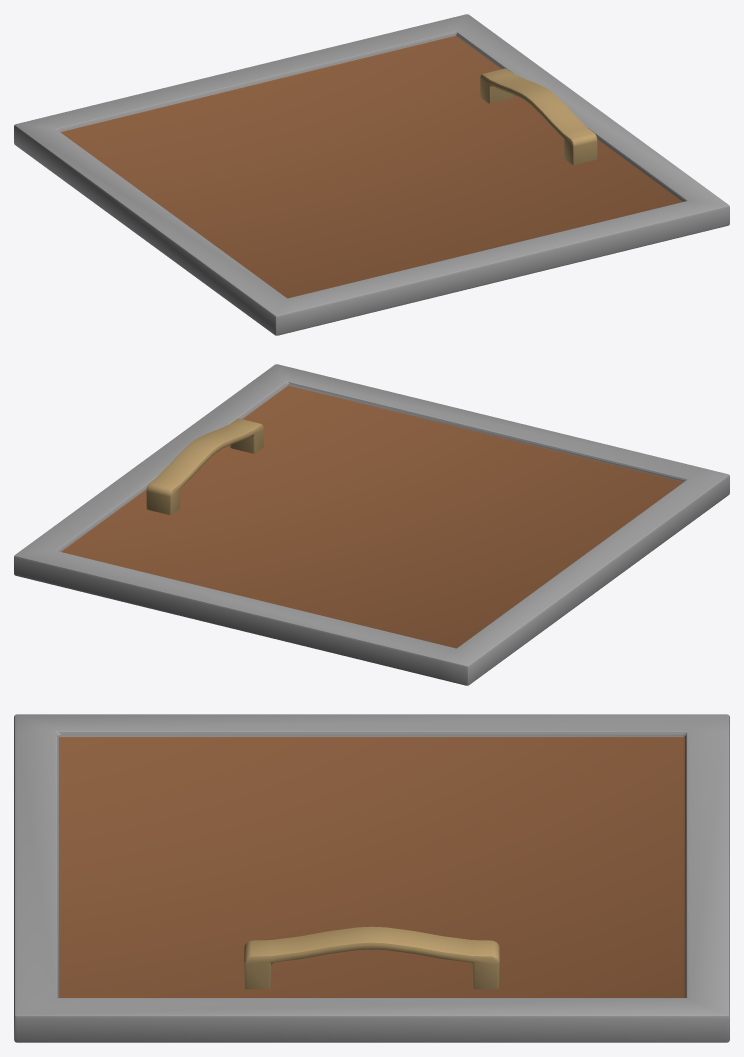
File: Trapdoor.fbx
The picture shows the model from 3 angles, top to bottom: view 1: azimuth 30°, elevation 25°; view 2: azimuth 150°, elevation 25°; view 3: azimuth 270°, elevation 25°; orthographic projection. The views are drawn at different scales.
Parts seen in each view (by area): view 1: Cube.100; view 2: Cube.100; view 3: Cube.100.
Boxes of the visible parts, x1,y1,x2,y2 form: Cube.100: (14, 14, 729, 335); Cube.100: (14, 364, 729, 685); Cube.100: (14, 714, 729, 1042).
Size of the model in its own units: 174 by 18.74 by 174.
